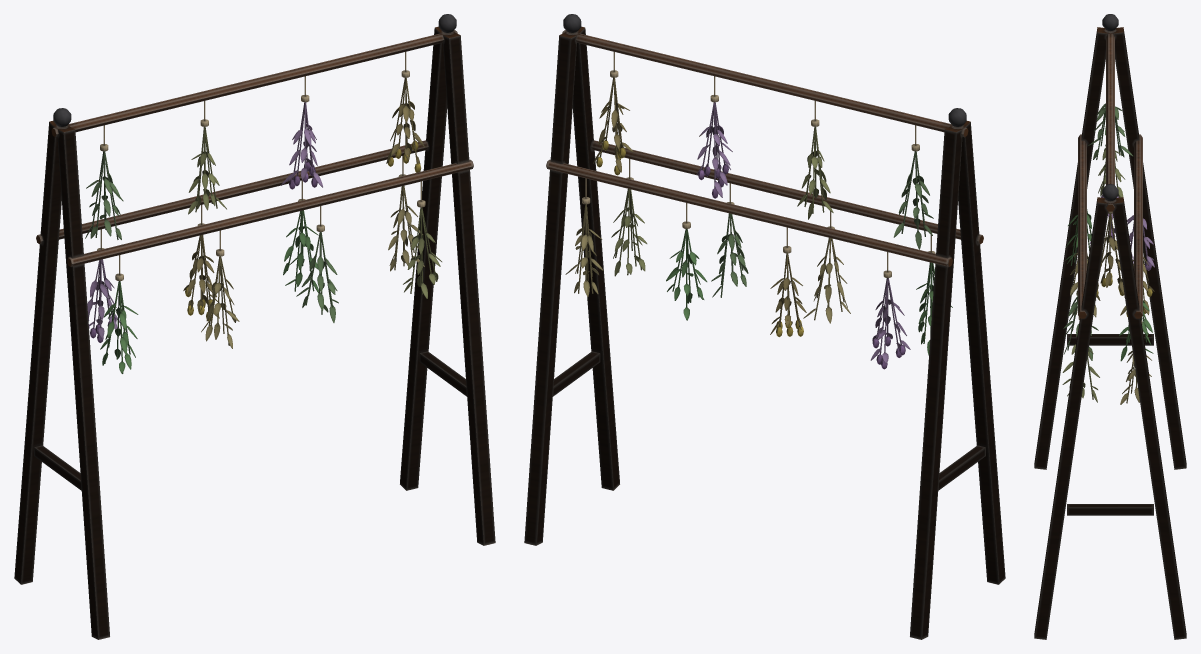
File: HerbDryingRack.fbx
3 views of the same model, side by side, from view 1: azimuth 30°, elevation 25°; view 2: azimuth 150°, elevation 25°; view 3: azimuth 270°, elevation 25° (orthographic). The views are drawn at different scales.
Visible parts, largest first — view 1: HerbDryingRack; view 2: HerbDryingRack; view 3: HerbDryingRack.
Part boxes in pixels (x1,y1,x2,y2): HerbDryingRack: [14, 14, 495, 639]; HerbDryingRack: [524, 14, 1005, 639]; HerbDryingRack: [1034, 14, 1186, 639].
Bounding box in the file's own units: 480 × 571 × 174.
